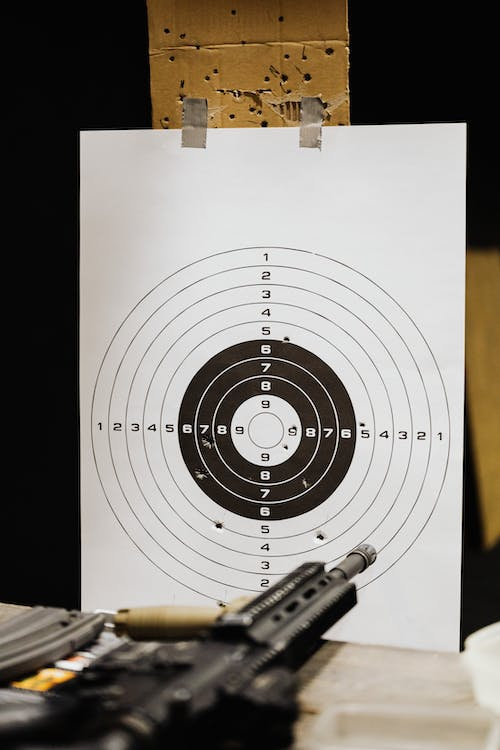gun: (0, 538, 381, 750)
